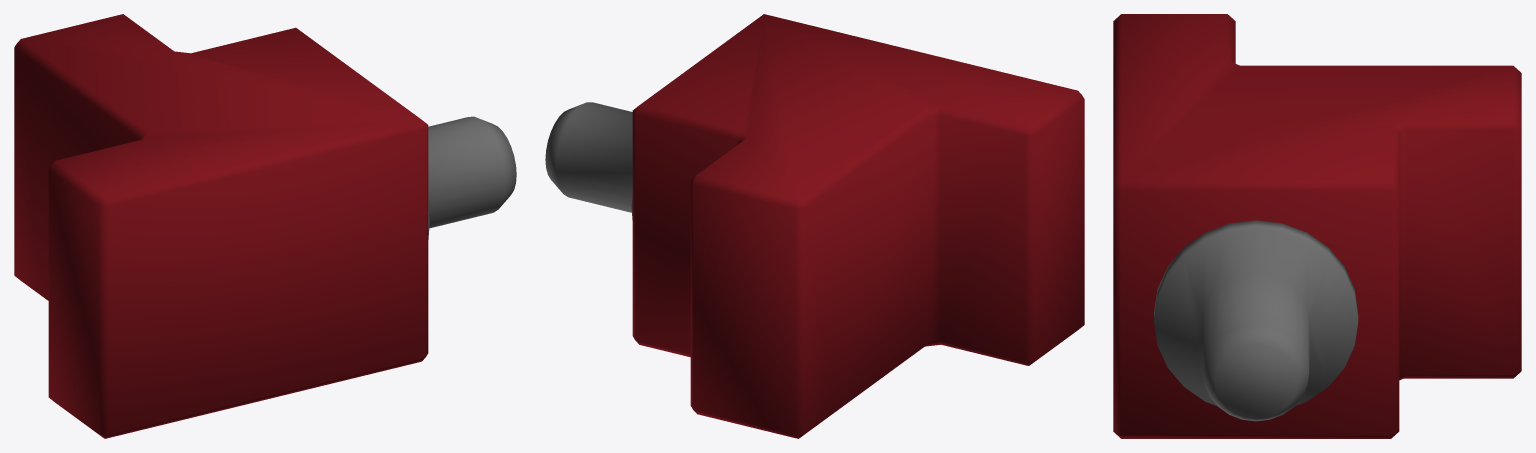
File: sensor_red.dae
3 views of the same model, side by side, from view 1: azimuth 30°, elevation 25°; view 2: azimuth 150°, elevation 25°; view 3: azimuth 270°, elevation 25° (orthographic). The views are drawn at different scales.
Parts seen in each view (by area): view 1: sensor_peg; view 2: sensor_peg; view 3: sensor_peg.
Part boxes in pixels (left/top/right/bottom): sensor_peg: left=14, top=14, right=516, bottom=438; sensor_peg: left=545, top=14, right=1084, bottom=438; sensor_peg: left=1113, top=14, right=1521, bottom=438.
Size of the model in its own units: 0.14 by 0.1 by 0.07.
